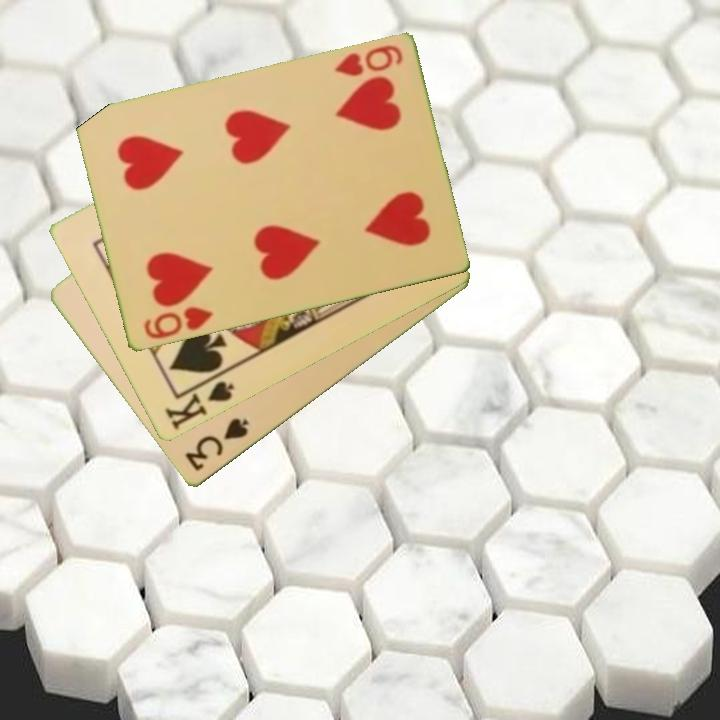3s: (181, 414, 252, 475)
6h: (140, 303, 216, 343), (330, 41, 406, 80)
Ks: (161, 378, 237, 434)
